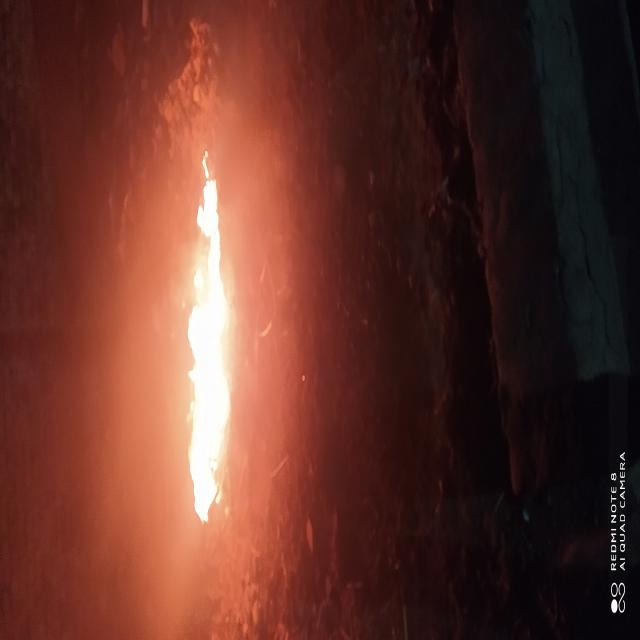Fire: (54, 409, 222, 504)
